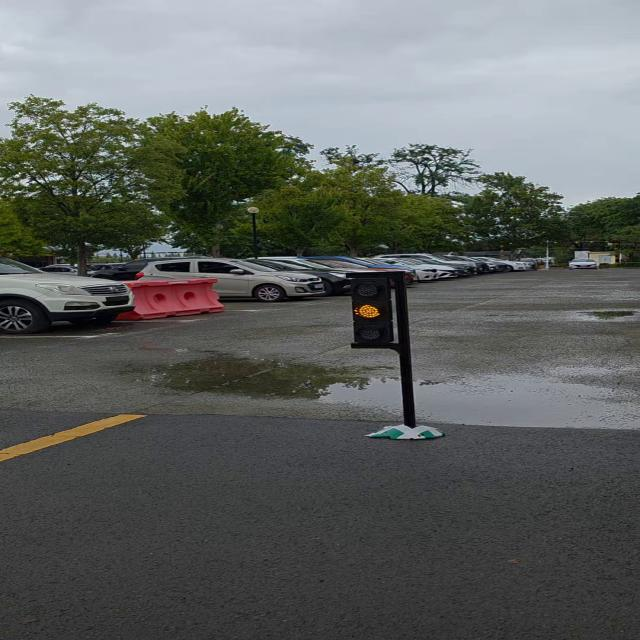yellow: (347, 273, 400, 350)
